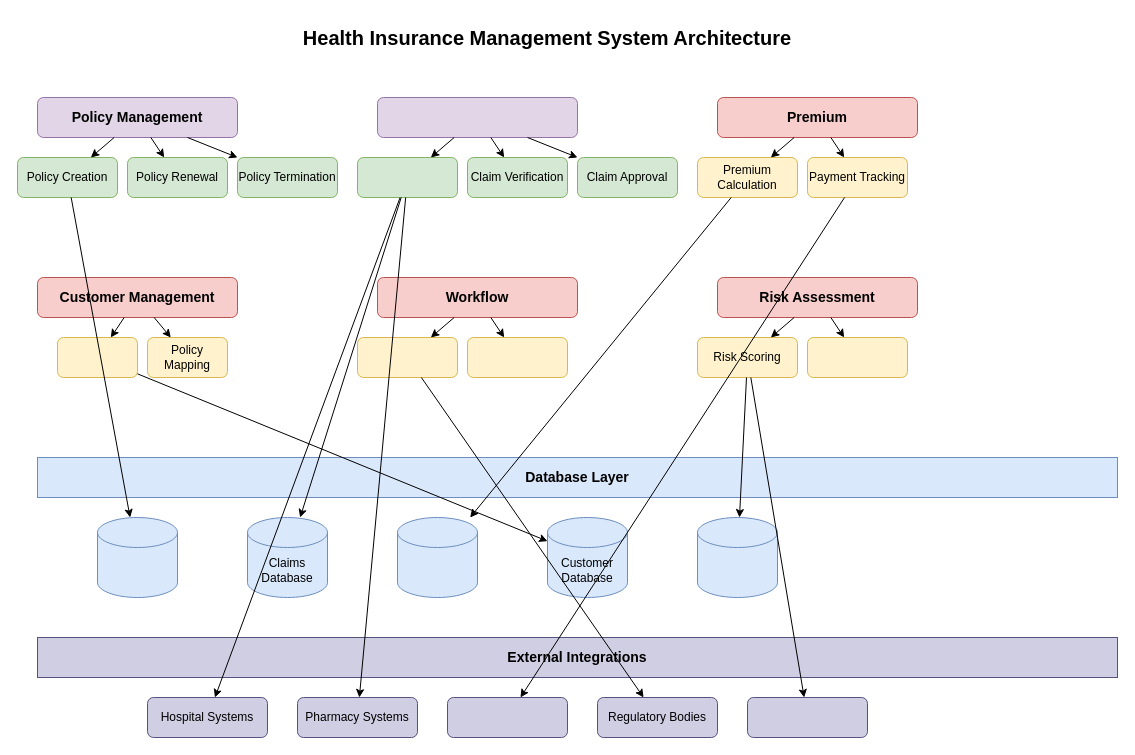
Some shapes in this 1135 by 755 pixel diagram are drawn without their labels. The centre of each missing label's shape, as x and y in pixels:
Approval Workflow: the point at 407,357
Claim Submission: the point at 407,177
Claims: the point at 477,117
Credit Bureaus: the point at 807,717
Customer Profiles: the point at 97,357
Notifications: the point at 517,357
Payment Gateway: the point at 507,717
Policy Database: the point at 137,557
Premium Database: the point at 437,557
Risk Database: the point at 737,557
Underwriting: the point at 857,357
